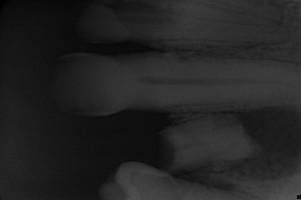Furcation Involvement: (228, 108, 301, 180)
